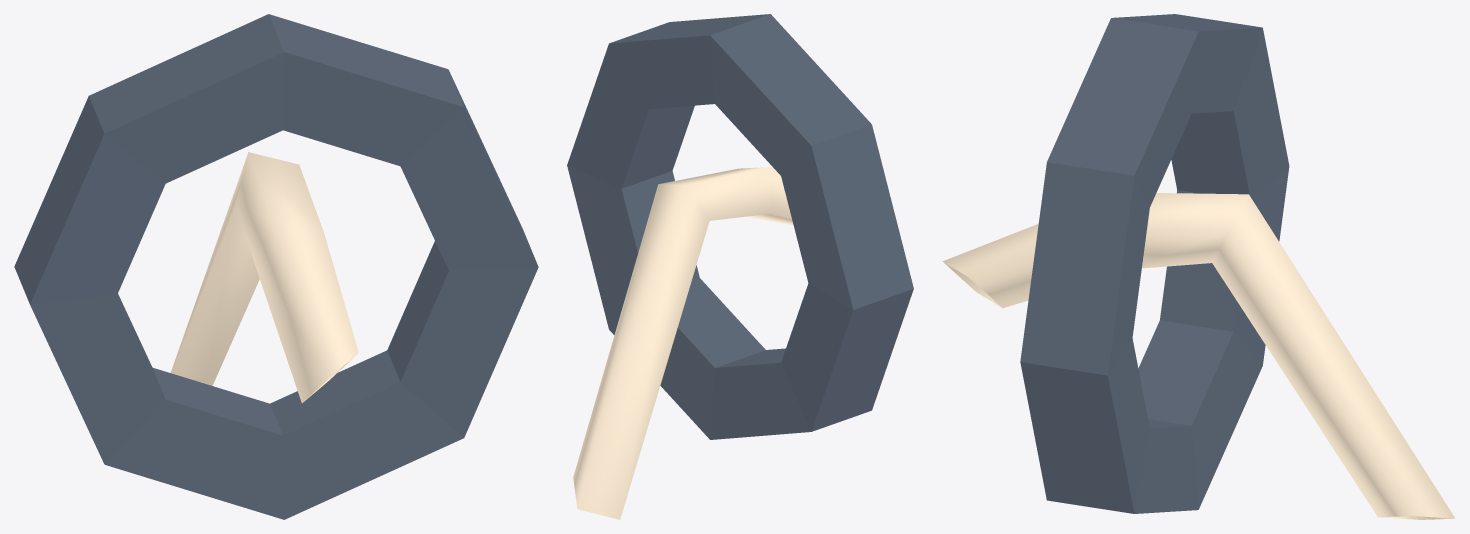
File: anchorbase.glb
The picture shows the model from 3 angles, left to right: view 1: azimuth 30°, elevation 25°; view 2: azimuth 150°, elevation 25°; view 3: azimuth 270°, elevation 25°; orthographic projection. The views are drawn at different scales.
Parts seen in each view (by area): view 1: Cylinder.036, BezierCurve.011; view 2: Cylinder.036, BezierCurve.011; view 3: Cylinder.036, BezierCurve.011.
Part boxes in pixels (x1,y1,x2,y2): Cylinder.036: (14,14,538,519); BezierCurve.011: (170,152,358,403); Cylinder.036: (567,14,913,439); BezierCurve.011: (573,167,793,519); Cylinder.036: (1020,14,1289,513); BezierCurve.011: (942,193,1455,519).
Size of the model in its own units: 0.047 by 0.0482 by 0.0457.
